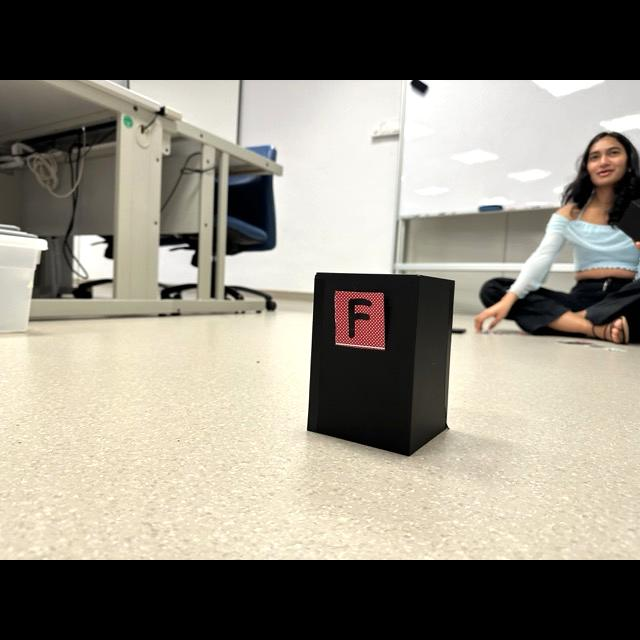F: (347, 298, 371, 338)
